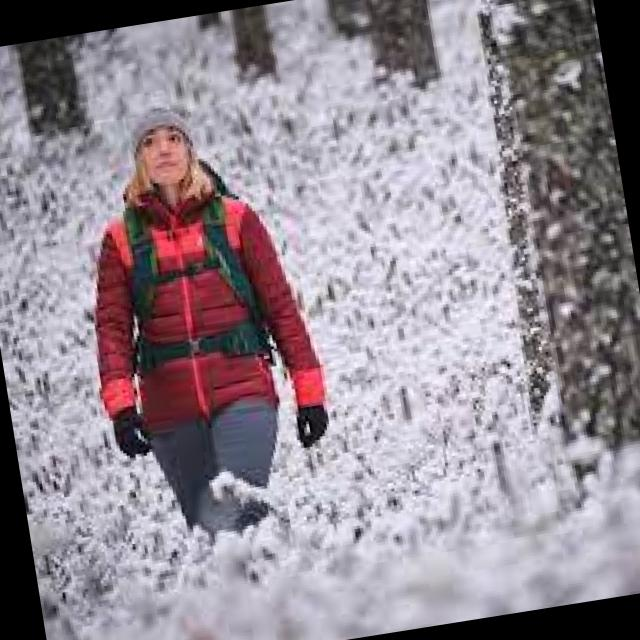Jacket: (62, 178, 340, 490)
